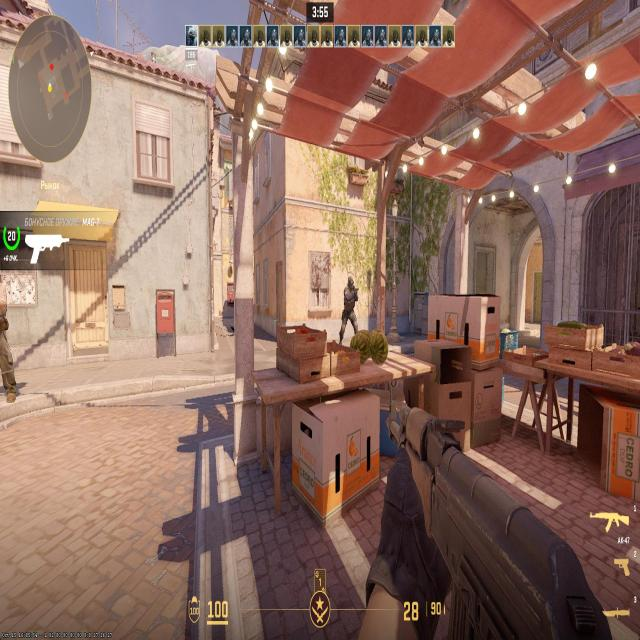CT: (347, 278, 356, 326)
CT_heat: (348, 284, 354, 294)
